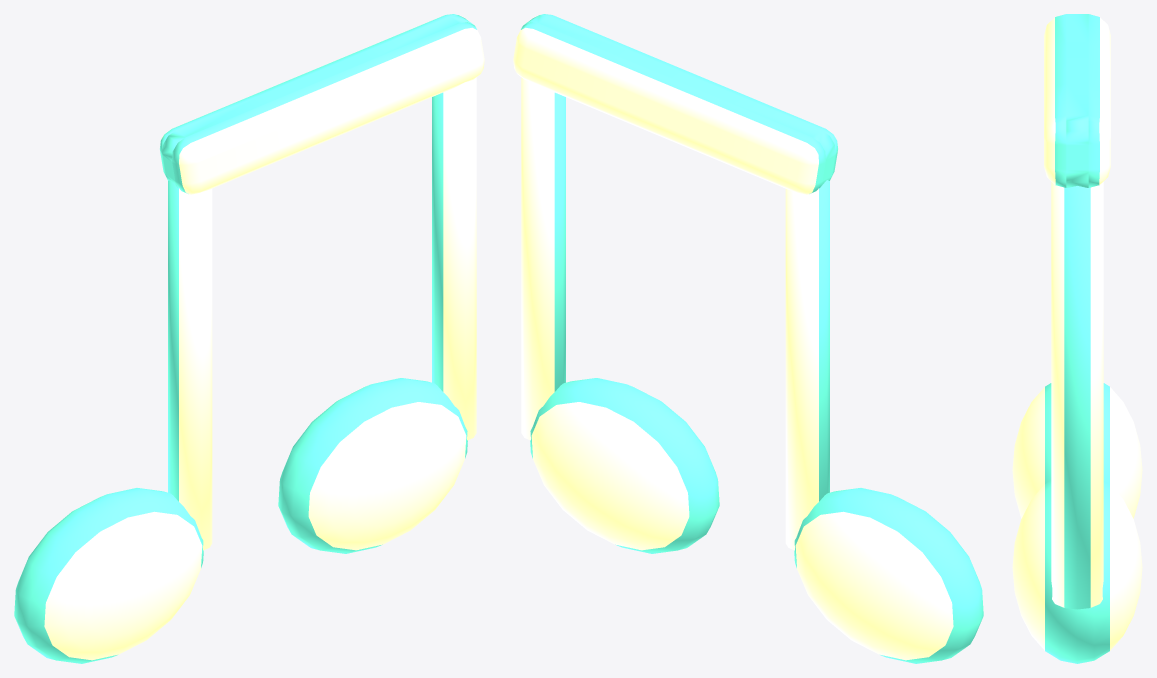
The model's file is nota-dupla.glb.
3 renders of one model, left to right at view 1: azimuth 30°, elevation 25°; view 2: azimuth 150°, elevation 25°; view 3: azimuth 270°, elevation 25°, orthographic. The views are drawn at different scales.
Parts seen in each view (by area): view 1: nota-dupla; view 2: nota-dupla; view 3: nota-dupla.
Boxes of the visible parts, x1,y1,x2,y2 form: nota-dupla: (14, 14, 484, 663); nota-dupla: (513, 14, 983, 663); nota-dupla: (1012, 14, 1142, 663).
Size of the model in its own units: 0.1478 by 0.1691 by 0.031.
